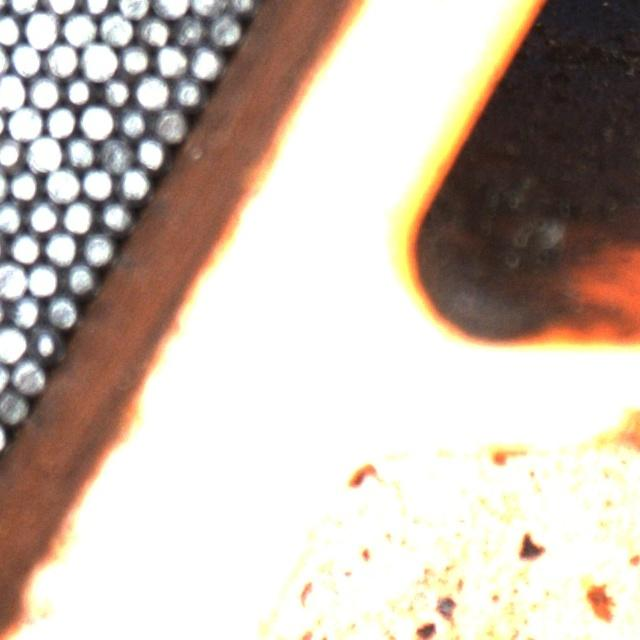tool: (80, 42, 116, 79), (44, 41, 80, 77), (7, 104, 42, 141), (26, 134, 61, 170), (61, 11, 96, 47), (43, 166, 79, 201), (79, 103, 114, 138), (99, 11, 134, 46), (98, 137, 133, 172), (80, 230, 115, 265), (26, 198, 60, 234), (152, 106, 186, 142), (134, 13, 170, 47), (8, 40, 42, 76), (61, 198, 95, 234), (25, 11, 59, 46), (44, 230, 78, 265), (43, 104, 78, 138), (27, 73, 61, 108), (100, 73, 134, 108), (171, 12, 206, 46), (136, 74, 170, 109), (115, 104, 150, 138), (63, 134, 97, 169), (12, 358, 46, 393), (27, 324, 62, 358), (44, 293, 79, 327), (26, 262, 60, 296), (8, 230, 42, 264), (80, 166, 114, 200), (118, 40, 152, 74), (154, 42, 188, 76), (7, 168, 41, 202), (207, 12, 241, 46), (8, 294, 42, 328), (116, 164, 150, 198), (63, 260, 97, 294), (99, 198, 133, 232), (134, 136, 168, 169), (63, 72, 96, 106), (171, 74, 204, 107), (189, 46, 221, 79), (0, 388, 29, 422), (0, 325, 26, 361), (0, 262, 26, 297), (0, 73, 24, 109), (0, 199, 25, 233), (0, 10, 23, 46), (0, 134, 24, 168), (116, 0, 151, 17), (189, 0, 224, 16), (154, 0, 188, 16), (80, 0, 114, 15), (42, 0, 78, 14), (7, 0, 40, 14), (224, 0, 258, 13)
